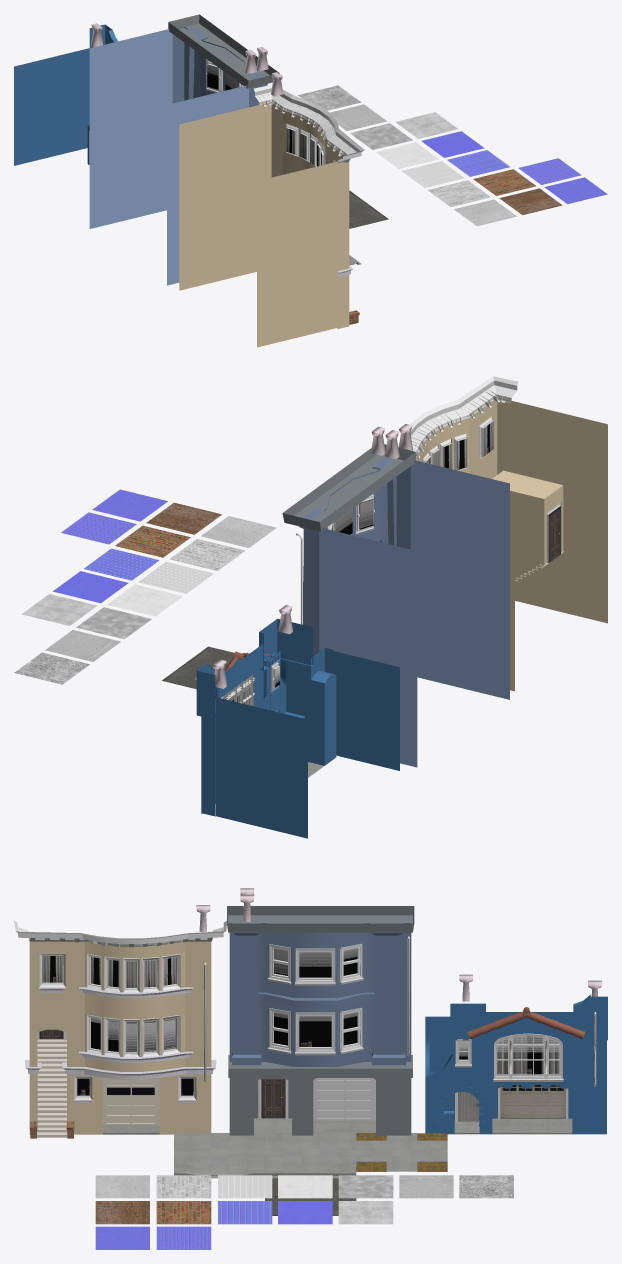
File: env_test.glb
3 views of the same model, one above another, from view 1: azimuth 30°, elevation 25°; view 2: azimuth 150°, elevation 25°; view 3: azimuth 270°, elevation 25° (orthographic). The views are drawn at different scales.
Visible parts, largest first — view 1: sides_house1, sides_house2, sides_house3, midWall_house1, slabs_house2, midWall_house2, roofUnder_house1, tex_cloud_ref2, tex_brick_normal_ref, tex_woodPlanks_roughness_ref, tex_plaster_normal, tex_sidewalk1_roughness_ref (+15 smaller); view 2: sides_house2, sides_house3, sides_house1, wall_house3, midWall_house1, midWall_house2, slabs_house2, roofUnder_house1, inside_house1, tex_cloud_ref2, tex_brick_normal_ref, tex_plaster_roughness_ref (+17 smaller); view 3: midWall_house2, wall_house3, midWall_house1, slabs_house2, bottom_house2, inside_house3, bottom_house1, trim_house1, inside_house1, inside_house2, trim_house2, sidewalkCut (+28 smaller).
Part boxes in pixels (x1,y1,x2,y2): sides_house1: (179,105,337,347); sides_house2: (89,29,248,285); sides_house3: (14,48,90,165); midWall_house1: (259,102,349,275); slabs_house2: (168,14,279,88); midWall_house2: (172,26,267,107); roofUnder_house1: (254,84,364,162); tex_cloud_ref2: (350,123,412,149); tex_brick_normal_ref: (518,158,581,184); tex_woodPlanks_roughness_ref: (402,161,464,187); tex_plaster_normal: (421,131,484,157); tex_sidewalk1_roughness_ref: (395,112,458,138); sides_house2: (319,460,509,767); sides_house3: (216,651,399,838); sides_house1: (510,401,607,691); wall_house3: (196,618,336,816); midWall_house1: (416,397,563,589); midWall_house2: (299,457,410,655); slabs_house2: (282,444,415,531); roofUnder_house1: (397,376,518,458); inside_house1: (427,421,560,562); tex_cloud_ref2: (76,607,151,639); tex_brick_normal_ref: (61,512,136,544); tex_plaster_roughness_ref: (107,584,182,616); midWall_house2: (229,923,411,1066); wall_house3: (425,994,607,1134); midWall_house1: (29,941,211,1071); slabs_house2: (227,906,414,1077); bottom_house2: (229,1078,411,1135); inside_house3: (458,1036,565,1121); bottom_house1: (29,1074,211,1134); trim_house1: (37,953,196,1099); inside_house1: (39,956,193,1095); inside_house2: (261,948,357,1118); trim_house2: (258,944,363,1118); sidewalkCut: (174,1133,264,1173).
Bounding box in the file's own units: 18.96 × 9.83 × 21.8.
48 materials, 25 textured.
